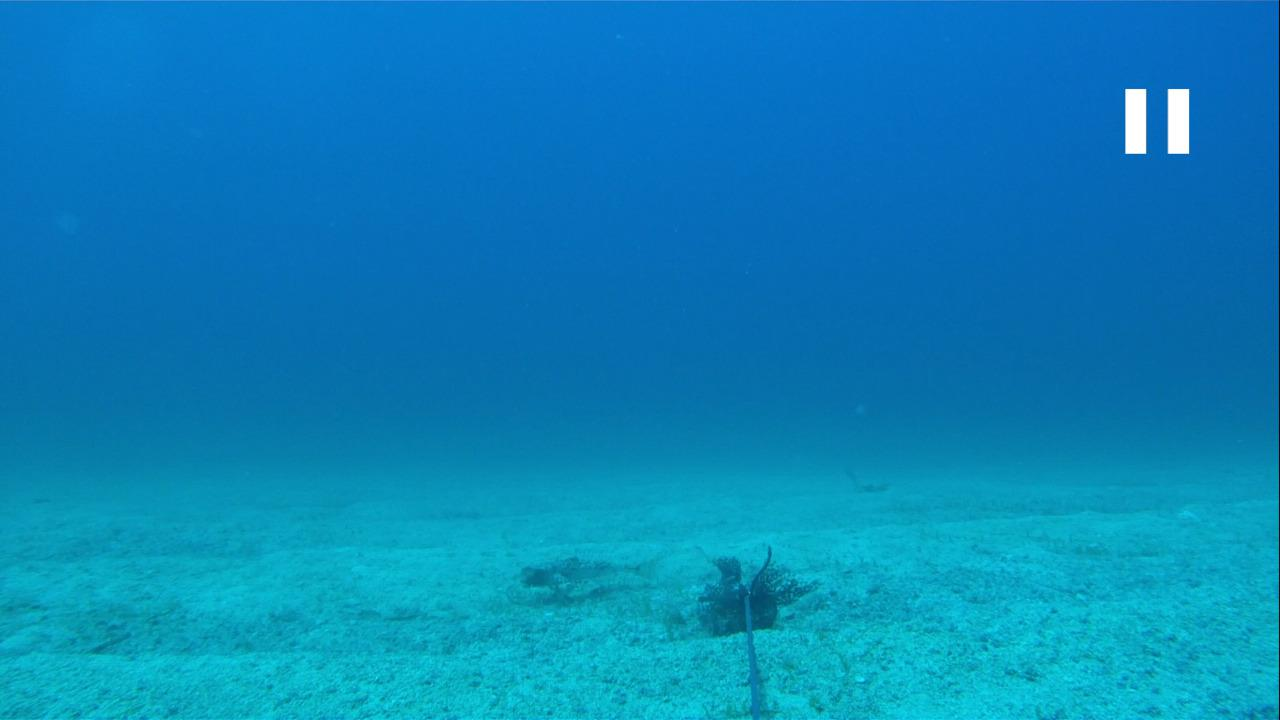dactylopterus: (508, 545, 670, 600)
